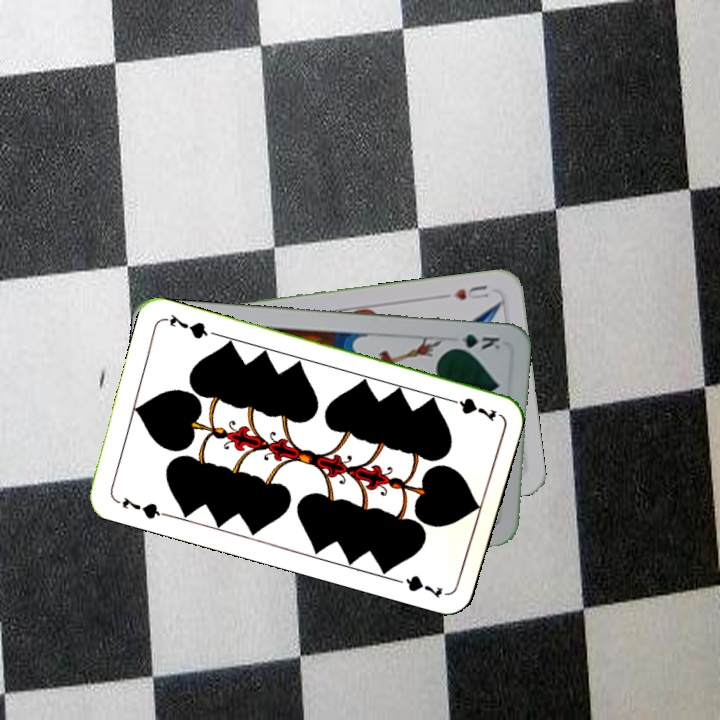G7: (441, 393, 500, 424), (111, 493, 169, 522)
GK: (445, 329, 505, 352)
HU: (450, 280, 492, 303)
